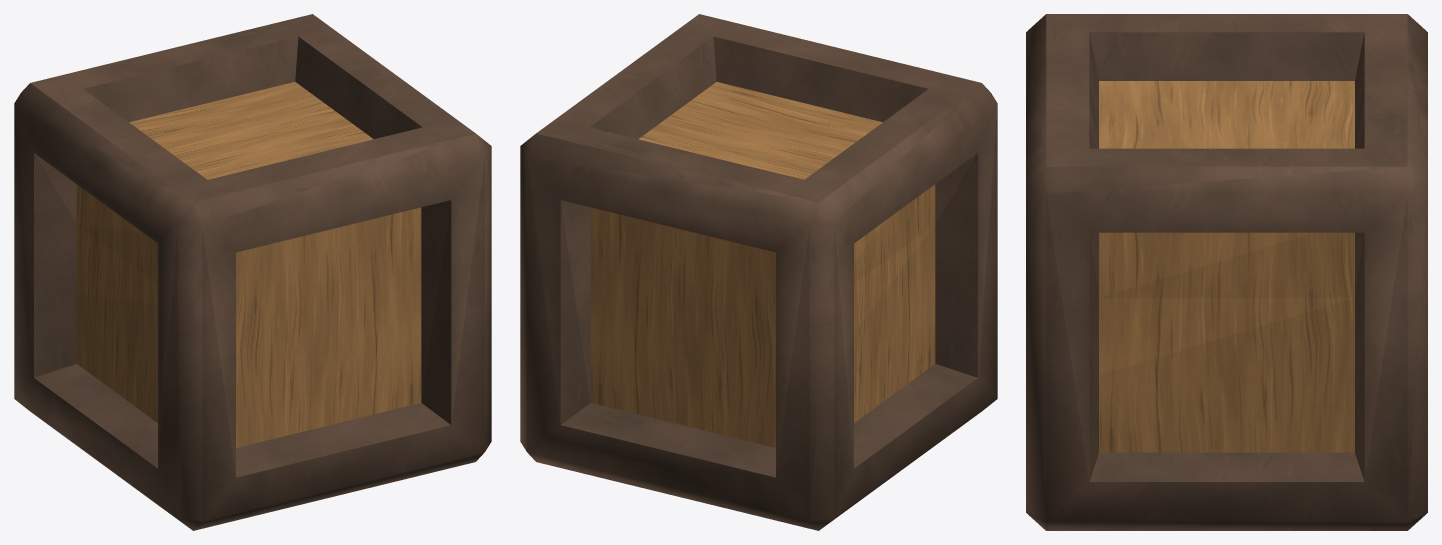
File: box_large.gltf
3 renders of one model, left to right at view 1: azimuth 30°, elevation 25°; view 2: azimuth 150°, elevation 25°; view 3: azimuth 270°, elevation 25°, orthographic. The views are drawn at different scales.
Visible parts, largest first — view 1: box_large; view 2: box_large; view 3: box_large.
Boxes of the visible parts, bbox=[...] form: box_large: bbox=[14, 14, 491, 530]; box_large: bbox=[520, 14, 997, 530]; box_large: bbox=[1026, 14, 1427, 530].
Bounding box in the file's own units: 1.5 × 1.5 × 1.5.
5 materials, 5 textured.
